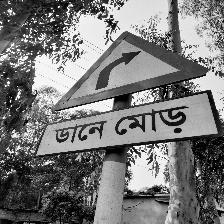Right-turn: (36, 31, 222, 157)
